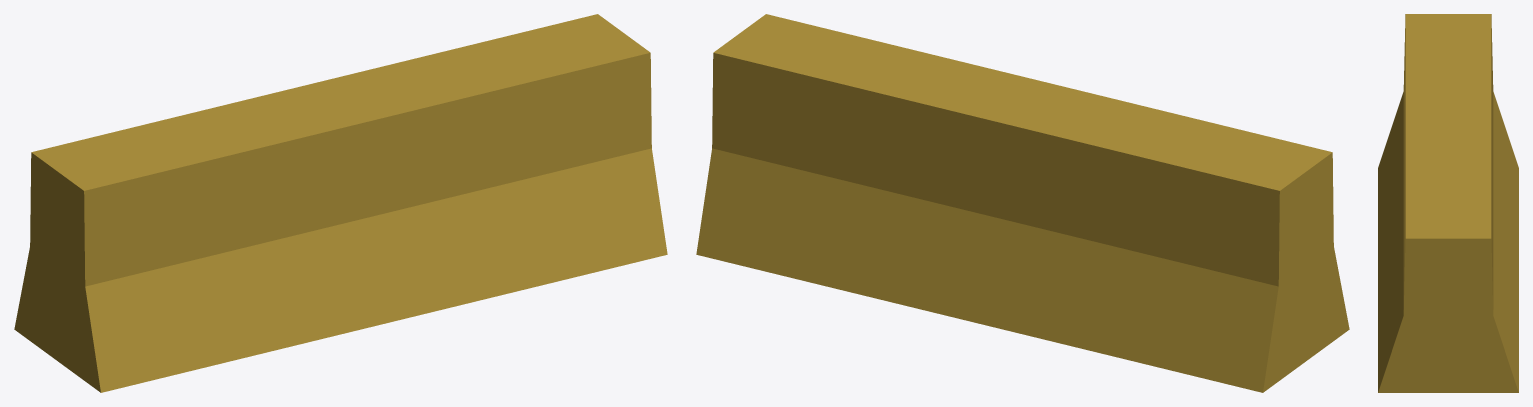
The model's file is border2.fbx.
3 views of the same model, side by side, from view 1: azimuth 30°, elevation 25°; view 2: azimuth 150°, elevation 25°; view 3: azimuth 270°, elevation 25° (orthographic). The views are drawn at different scales.
Visible parts, largest first — view 1: Cube.002; view 2: Cube.002; view 3: Cube.002.
Part boxes in pixels (left/top/right/bottom): Cube.002: left=14, top=14, right=667, bottom=392; Cube.002: left=696, top=14, right=1349, bottom=392; Cube.002: left=1378, top=14, right=1518, bottom=392.
Size of the model in its own units: 625 by 200 by 166.
